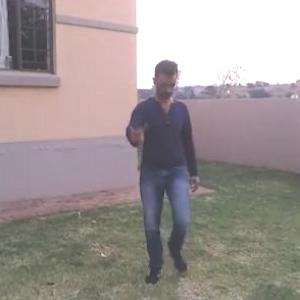takeoff-hand: (118, 112, 149, 145)
